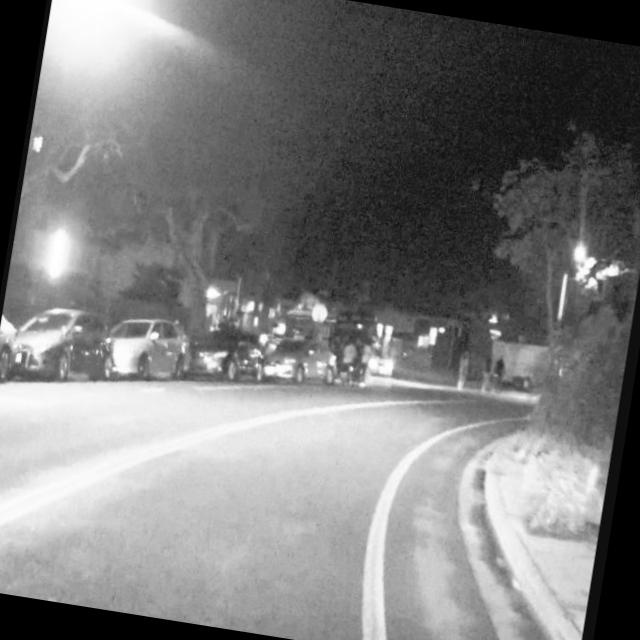Tree: (482, 118, 640, 373), (522, 302, 634, 551)
